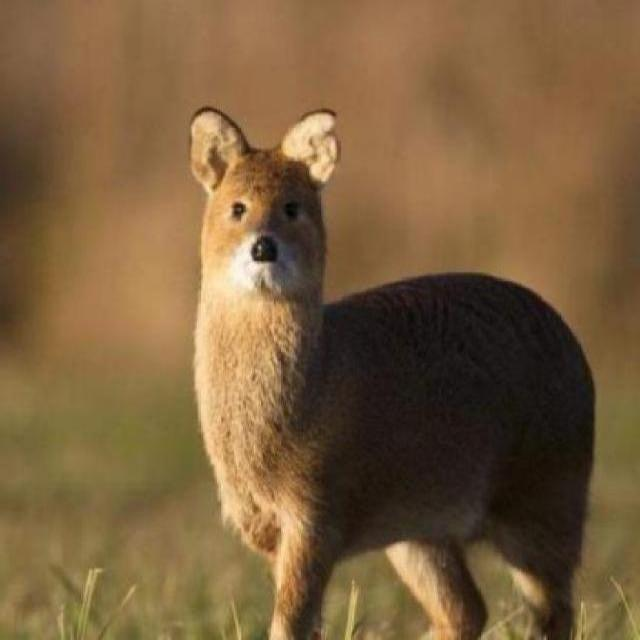deer: (180, 96, 603, 639)
